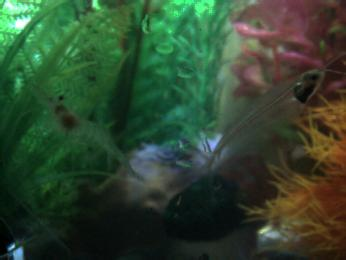glassfish: (186, 67, 327, 181)
siberian prawn: (30, 81, 139, 179)
